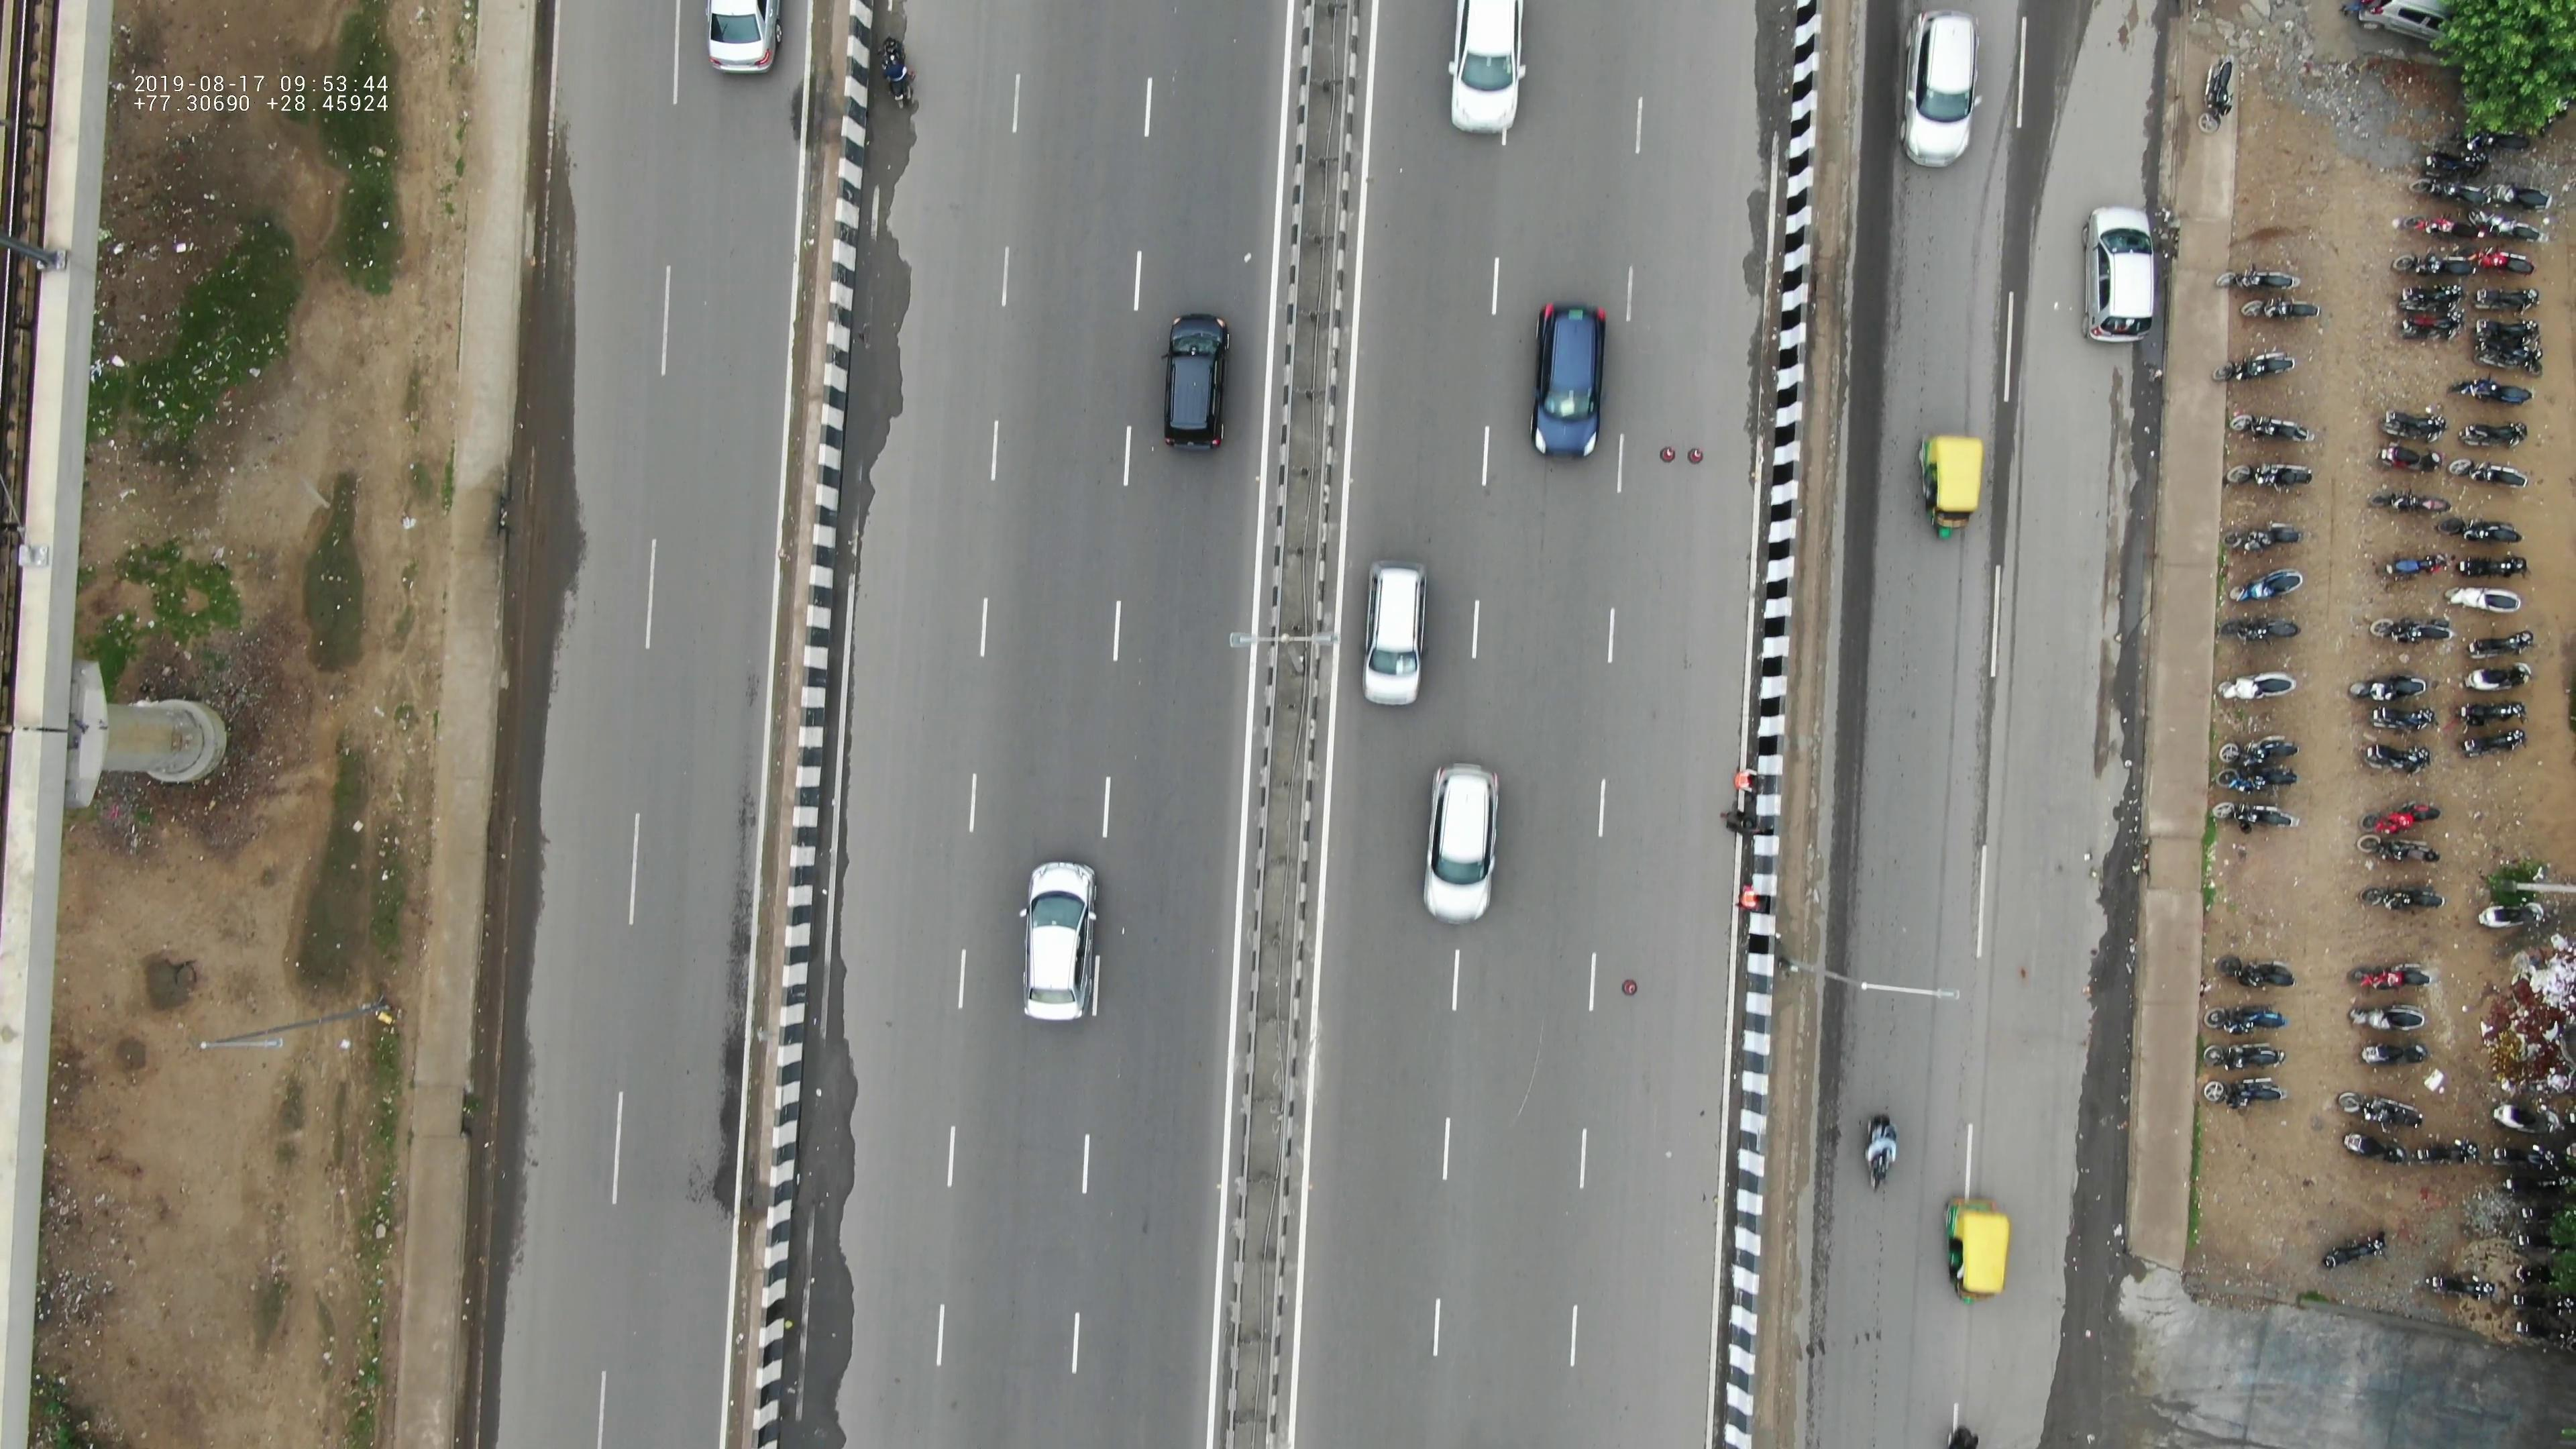Waterlogging: (2097, 357, 2189, 718)
